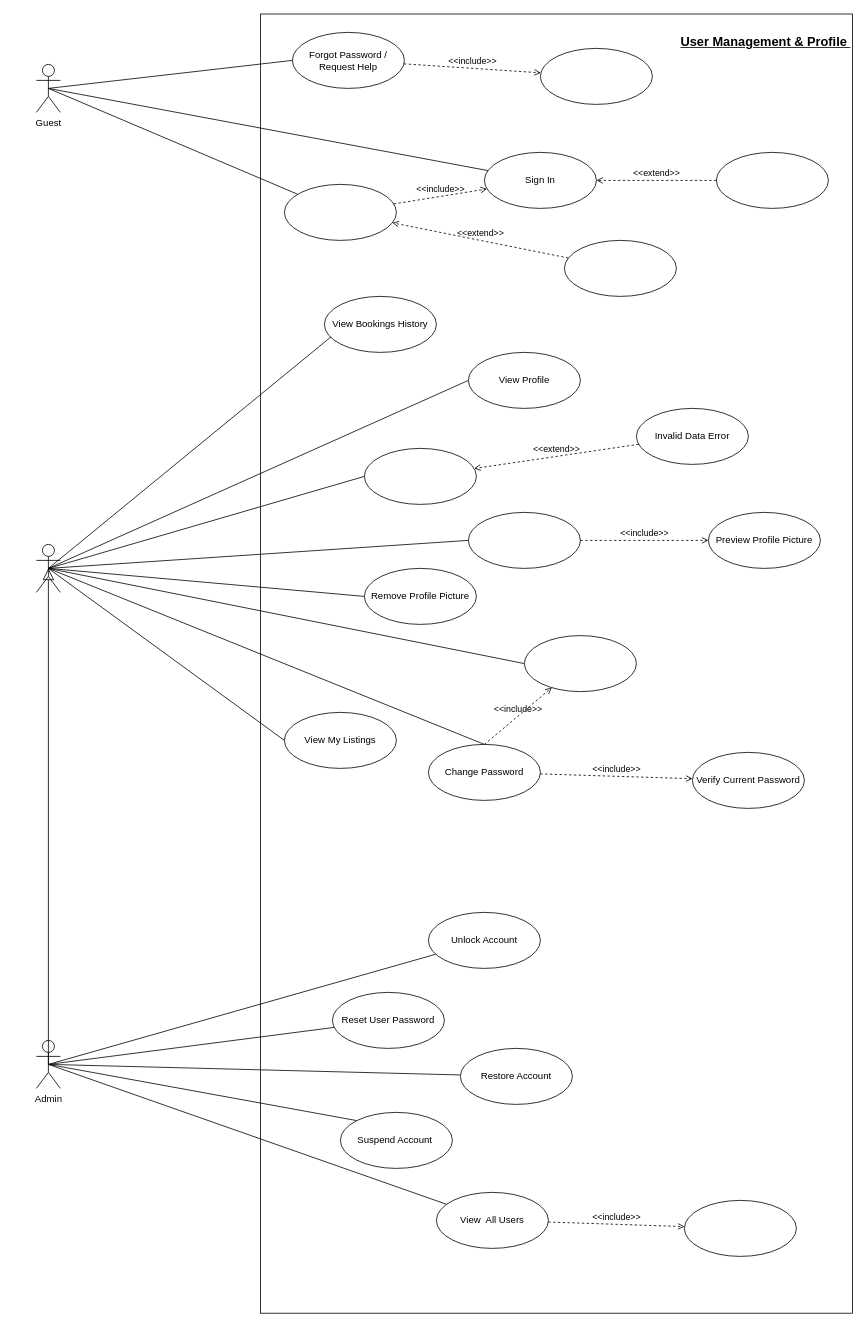
Some shapes in this 866 by 1327 pixel diagram are drawn without their labels. The centre of each missing label's shape, as x and y in pixels:
Account Locked: the point at 772,180
Contact Administrator: the point at 596,76
Create Account: the point at 340,212
Display User Details & Status: the point at 740,1228
Duplicate Data Error: the point at 620,268
Edit Personal Details: the point at 420,476
Registered User: the point at 48,568
Sign Out: the point at 580,663
Upload Profile Picture: the point at 524,540
